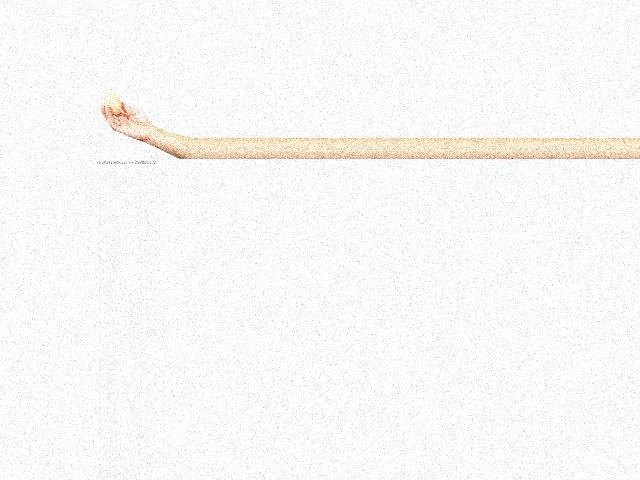egg: (104, 92, 122, 116)
